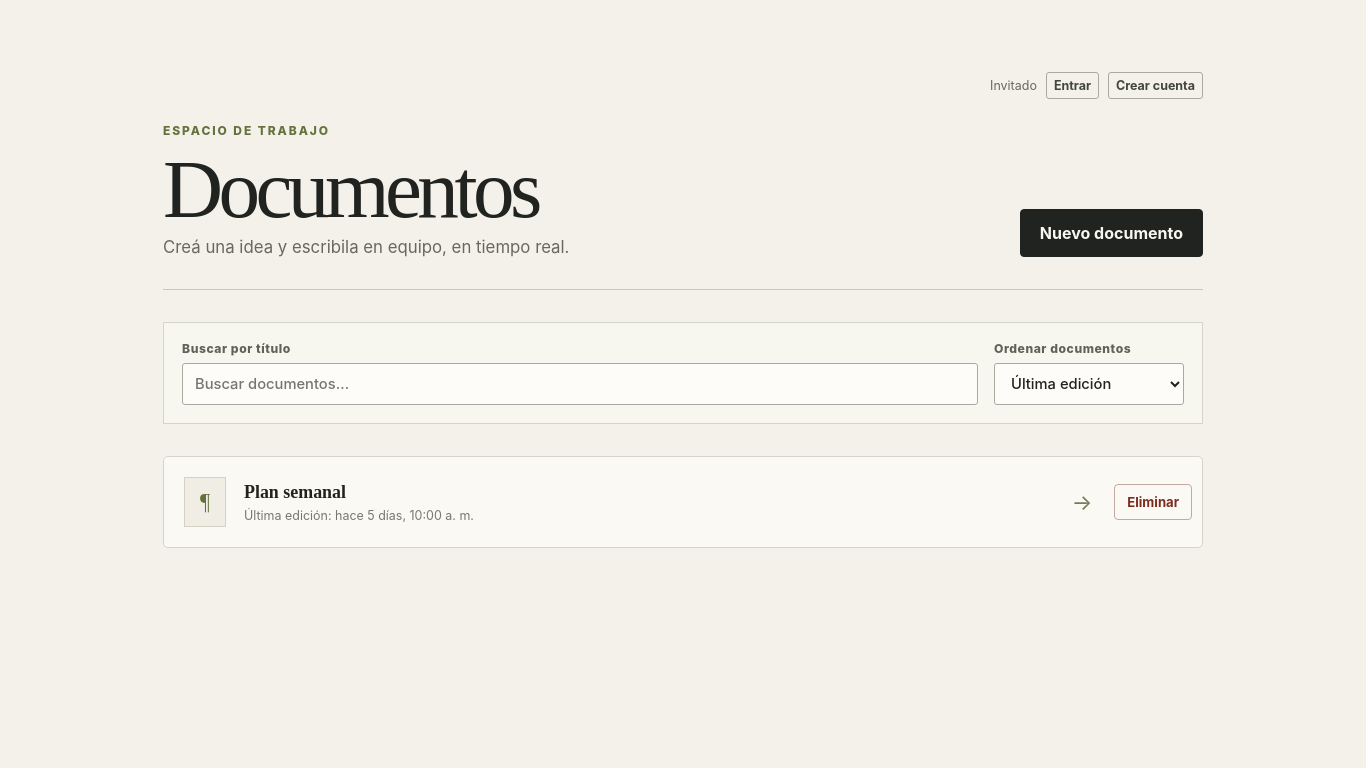
DocumentList › removes a document after confirming a successful deletion
Click the button with aria-label "eliminar plan semanal".
click(1153, 502)  # box x1=1114 y1=484 x2=1192 y2=520
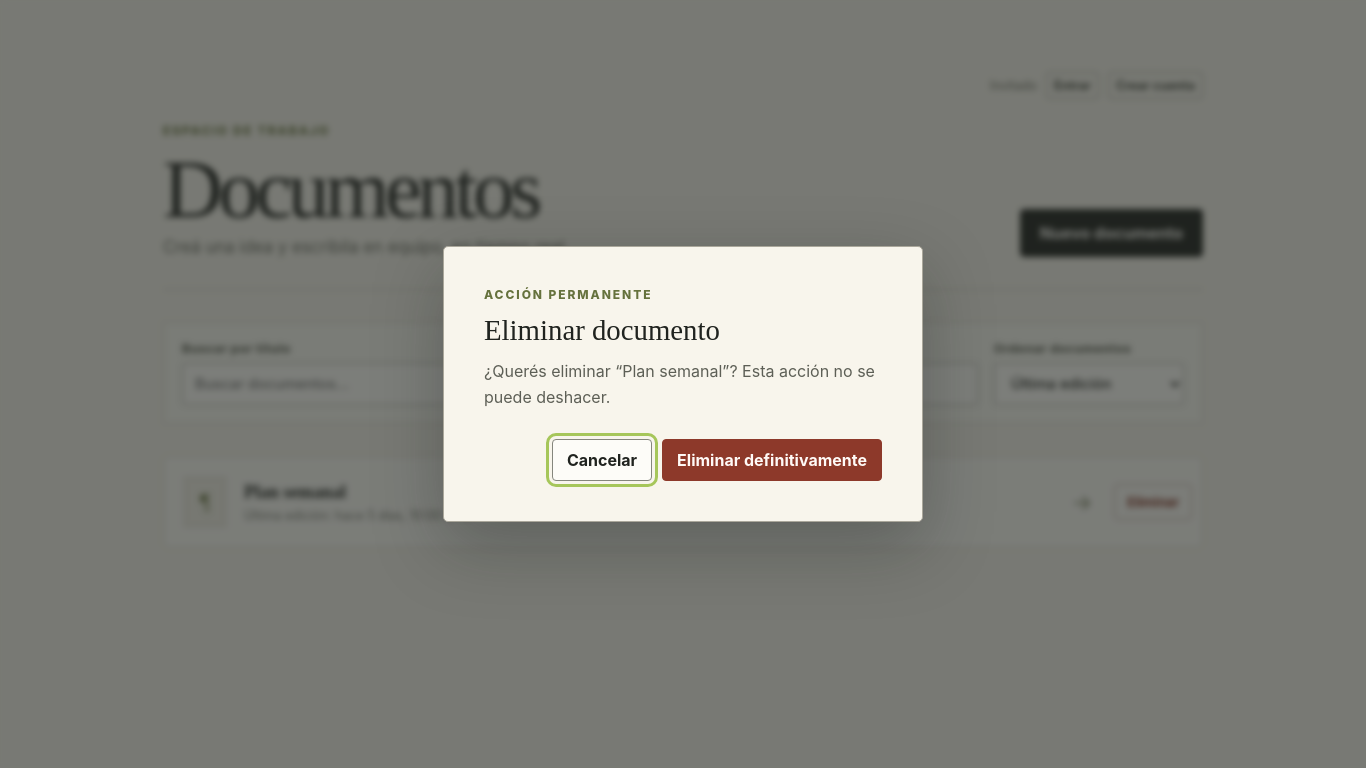
Click the button "Eliminar definitivamente".
click(772, 460)  # box x1=662 y1=439 x2=882 y2=481
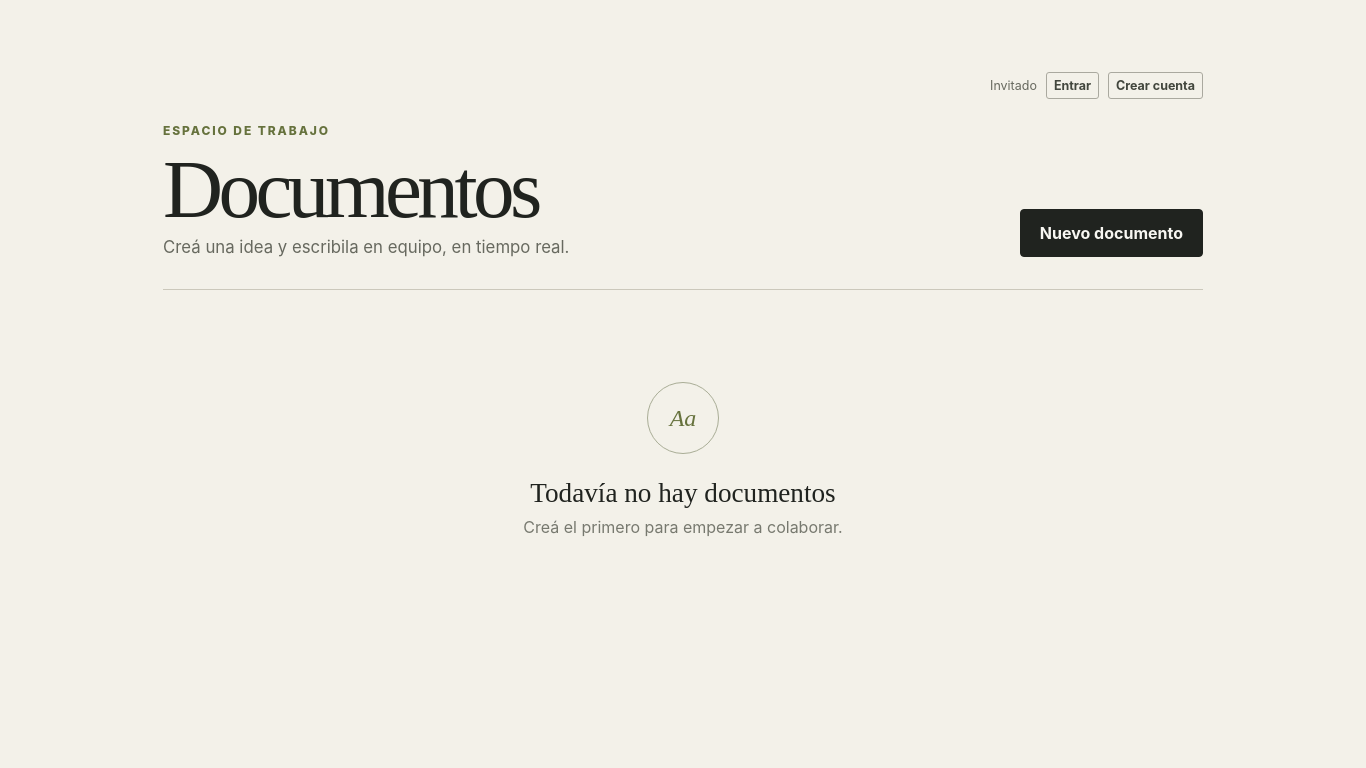
Expected: the button "Plan semanal" is gone
